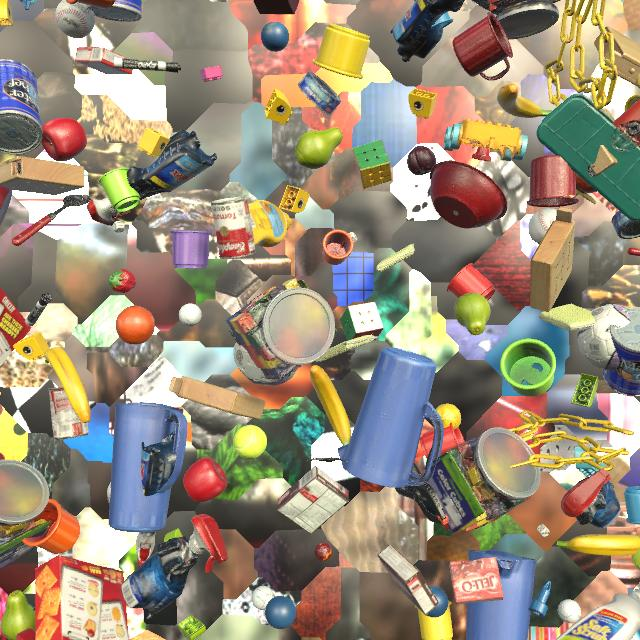ycb_002_master_chef_can: (0, 59, 43, 155), (603, 307, 640, 397), (87, 0, 142, 22)
ycb_003_cracker_box: (35, 555, 129, 640), (0, 288, 31, 366)
ycb_005_tomato_soup_can: (211, 197, 256, 259), (48, 384, 89, 440)
ycb_006_mustard_bottle: (249, 200, 292, 247)
ycb_007_tuna_fish_can: (298, 71, 341, 115), (611, 211, 640, 239)
ycb_008_pudding_box: (277, 466, 349, 534), (377, 544, 439, 616)
ycb_009_gelatin_box: (449, 557, 504, 604), (75, 47, 133, 74)
ycb_011_banana: (45, 347, 91, 423), (310, 365, 351, 446), (497, 83, 552, 118), (557, 534, 640, 556)
ycb_012_strawberry: (109, 269, 136, 293)
ycb_013_apple: (41, 118, 87, 162), (183, 457, 227, 502)
ycb_014_lemon: (435, 404, 461, 430)
ycb_016_pear: (295, 127, 343, 169), (1, 590, 35, 640), (454, 293, 491, 335)
ycb_017_orange: (116, 306, 155, 344)
ycb_018_plum: (407, 146, 436, 175)
